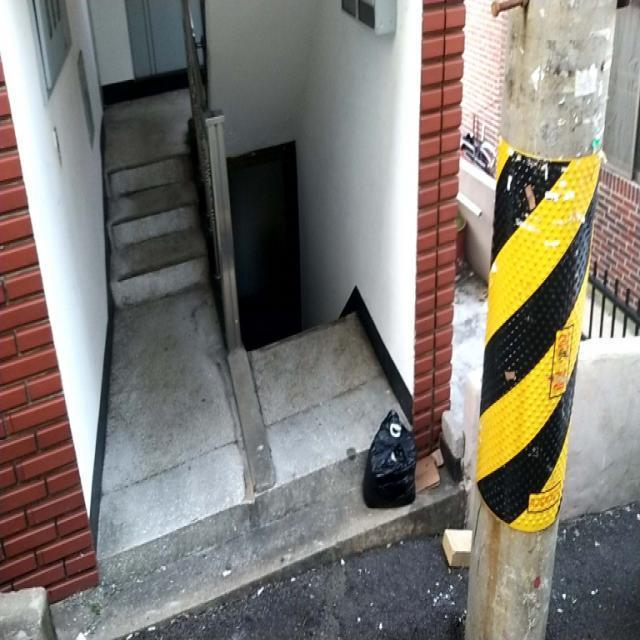Trashbag: (354, 407, 419, 514)
